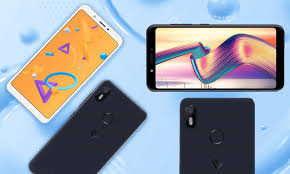vsmart: (22, 77, 149, 174), (176, 96, 255, 174)
